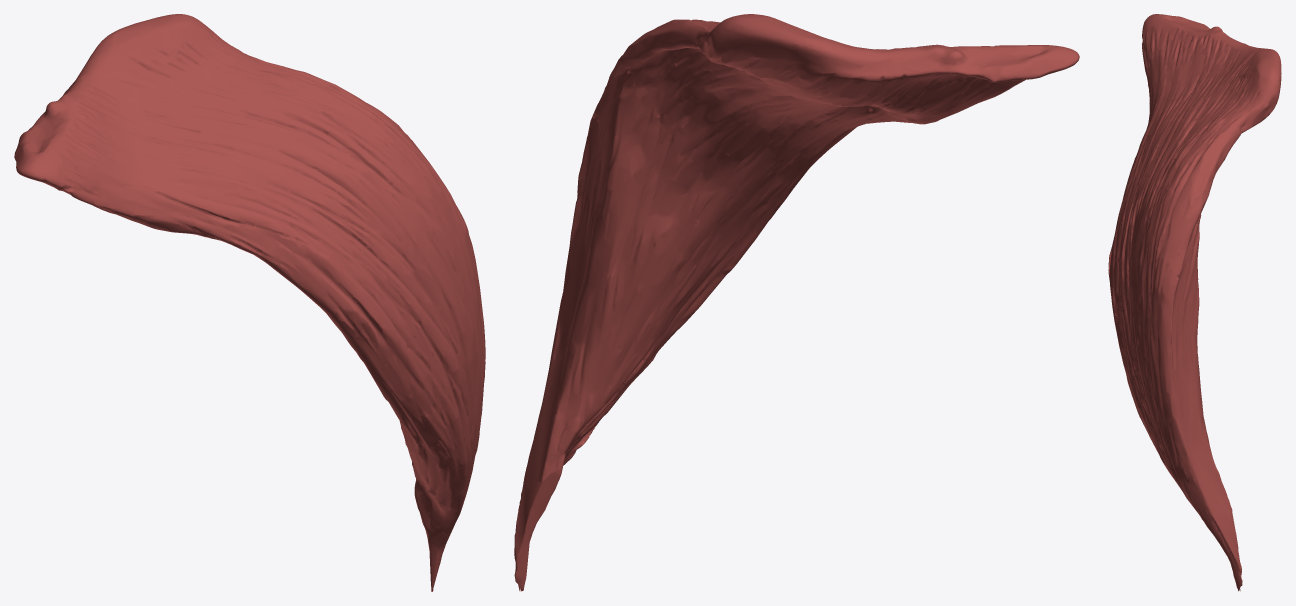
File: FMA34681.glb
3 views of the same model, side by side, from view 1: azimuth 30°, elevation 25°; view 2: azimuth 150°, elevation 25°; view 3: azimuth 270°, elevation 25° (orthographic). The views are drawn at different scales.
Parts seen in each view (by area): view 1: FMA34681; view 2: FMA34681; view 3: FMA34681.
Boxes of the visible parts, box(x1,y1,x2,y2) form: FMA34681: box(14, 14, 485, 591); FMA34681: box(514, 14, 1079, 591); FMA34681: box(1108, 14, 1281, 591).
Size of the model in its own units: 0.122 by 0.1498 by 0.0532.
